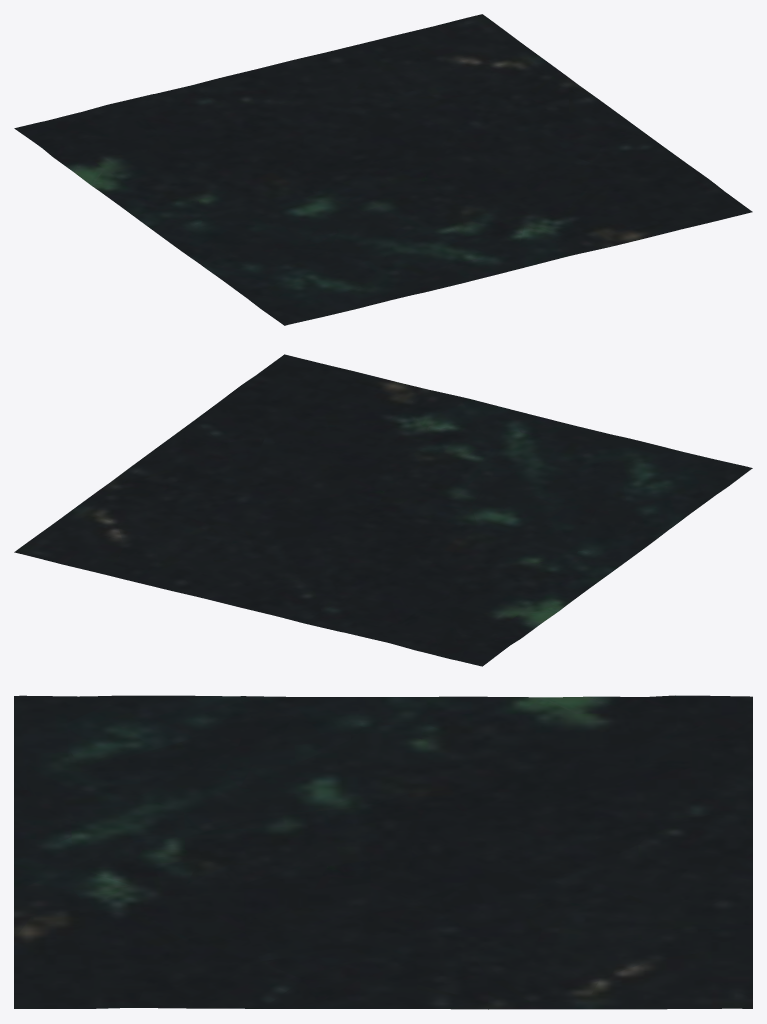
3 renders of one model, top to bottom at view 1: azimuth 30°, elevation 25°; view 2: azimuth 150°, elevation 25°; view 3: azimuth 270°, elevation 25°, orthographic. The views are drawn at different scales.
Bounding box in the file's own units: 52.22 × 0.2005 × 52.22.
3 materials, 3 textured.
